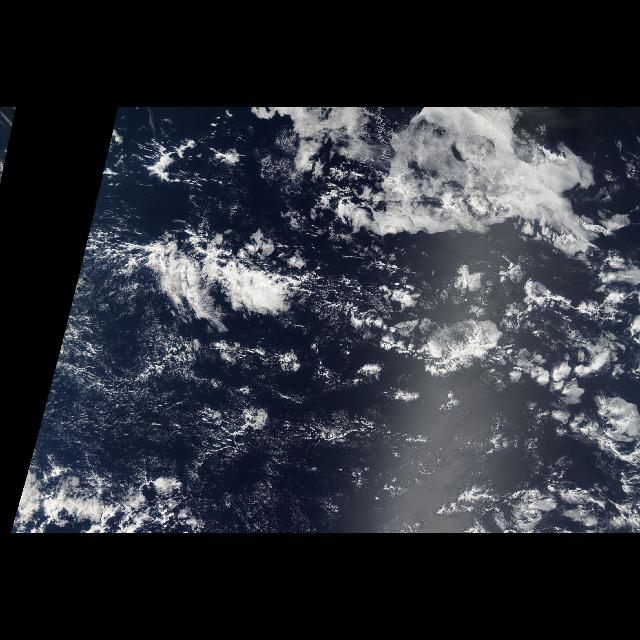Flower: (426, 248, 640, 458)
Gravel: (83, 342, 233, 476)
Sugar: (26, 198, 318, 474)
